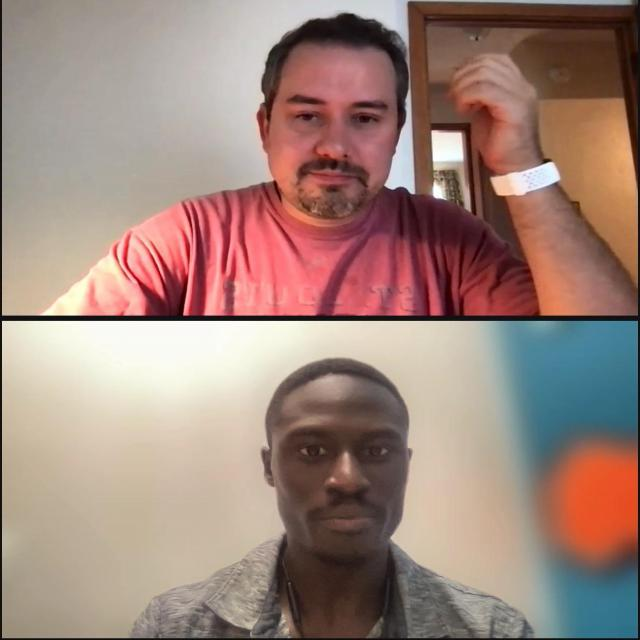face: (258, 357, 414, 567), (254, 15, 411, 218)
